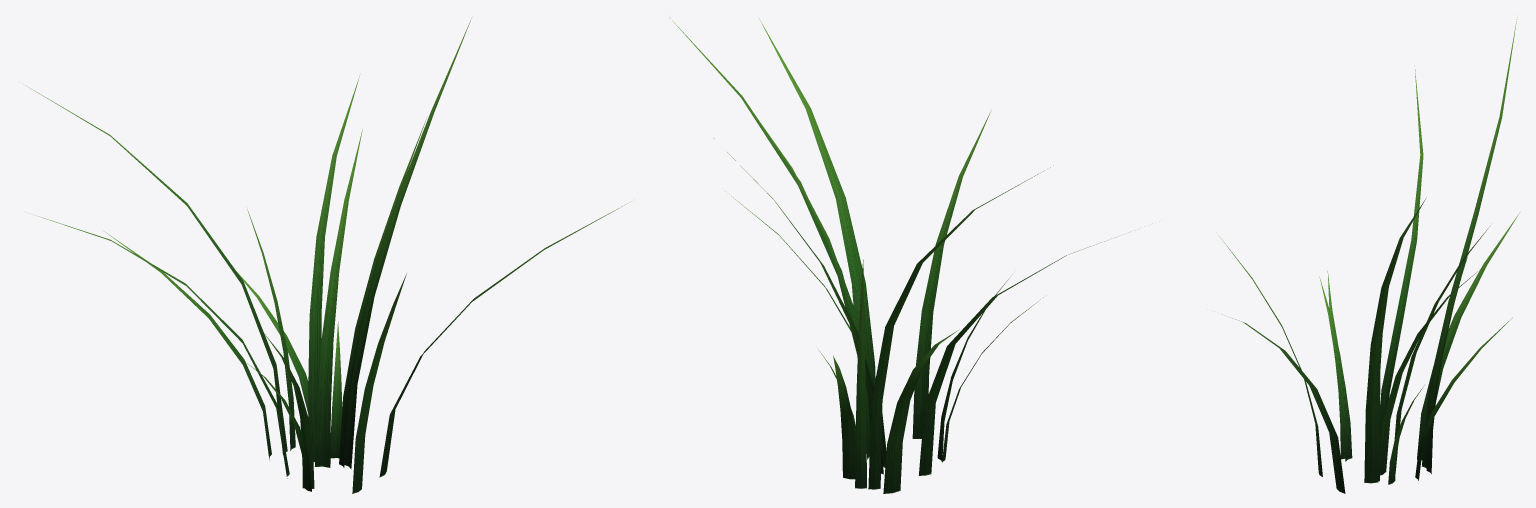
The model's file is Grass_Tuft_Wild.fbx.
3 renders of one model, left to right at view 1: azimuth 30°, elevation 25°; view 2: azimuth 150°, elevation 25°; view 3: azimuth 270°, elevation 25°, orthographic. The views are drawn at different scales.
Parts seen in each view (by area): view 1: Grass_Tuft_Wild; view 2: Grass_Tuft_Wild; view 3: Grass_Tuft_Wild.
Boxes of the visible parts, <box> form: Grass_Tuft_Wild: <box>23,18,627,493</box>; Grass_Tuft_Wild: <box>669,17,1129,493</box>; Grass_Tuft_Wild: <box>1218,17,1519,493</box>.
Bounding box in the file's own units: 4.68 × 3.51 × 2.85.
Materials: 1 (1 with a texture image).
